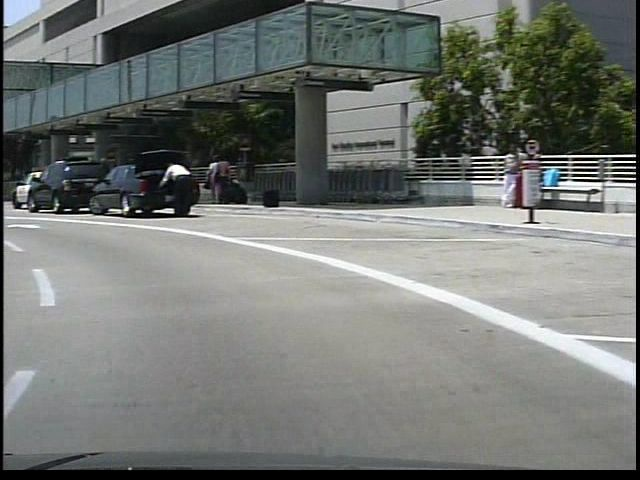person: (153, 161, 193, 223), (210, 154, 229, 209), (200, 156, 218, 208)
